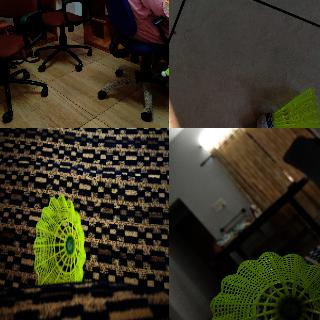shuttlecock: (207, 251, 319, 319), (33, 194, 85, 284), (255, 85, 319, 127), (161, 64, 168, 77)
